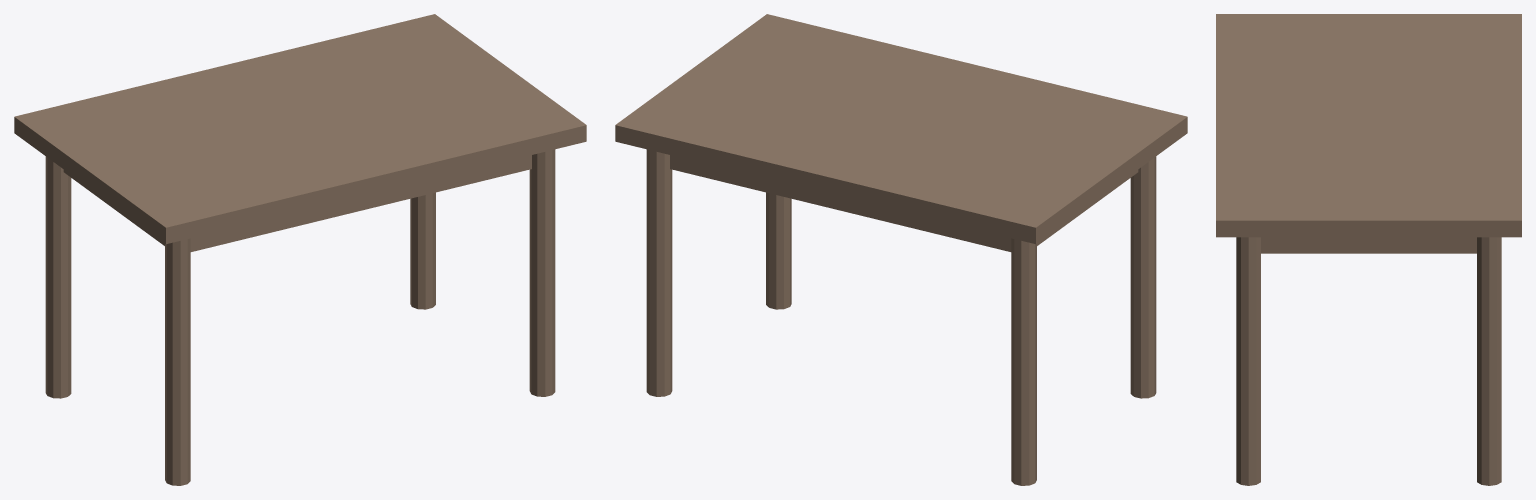
The model's file is prop_huanghuali_tea_table_v2.glb.
The picture shows the model from 3 angles, left to right: view 1: azimuth 30°, elevation 25°; view 2: azimuth 150°, elevation 25°; view 3: azimuth 270°, elevation 25°; orthographic projection.
Visible parts, largest first — view 1: prop_huanghuali_tea_table_v2/tea_table_top_00000, prop_huanghuali_tea_table_v2/tea_table_leg_00003, prop_huanghuali_tea_table_v2/tea_table_leg_00001, prop_huanghuali_tea_table_v2/tea_table_leg_00002, prop_huanghuali_tea_table_v2/tea_table_apron_l_00005, prop_huanghuali_tea_table_v2/tea_table_leg_00004; view 2: prop_huanghuali_tea_table_v2/tea_table_top_00000, prop_huanghuali_tea_table_v2/tea_table_leg_00004, prop_huanghuali_tea_table_v2/tea_table_leg_00002, prop_huanghuali_tea_table_v2/tea_table_leg_00001, prop_huanghuali_tea_table_v2/tea_table_apron_l_00006, prop_huanghuali_tea_table_v2/tea_table_leg_00003; view 3: prop_huanghuali_tea_table_v2/tea_table_top_00000, prop_huanghuali_tea_table_v2/tea_table_leg_00003, prop_huanghuali_tea_table_v2/tea_table_leg_00004, prop_huanghuali_tea_table_v2/tea_table_apron_s_00008.
Boxes of the visible parts, x1,y1,x2,y2 form: prop_huanghuali_tea_table_v2/tea_table_top_00000: (14, 14, 586, 244); prop_huanghuali_tea_table_v2/tea_table_leg_00003: (529, 149, 555, 396); prop_huanghuali_tea_table_v2/tea_table_leg_00001: (165, 238, 190, 485); prop_huanghuali_tea_table_v2/tea_table_leg_00002: (45, 156, 71, 398); prop_huanghuali_tea_table_v2/tea_table_apron_l_00005: (190, 155, 531, 251); prop_huanghuali_tea_table_v2/tea_table_leg_00004: (410, 192, 435, 309); prop_huanghuali_tea_table_v2/tea_table_top_00000: (615, 14, 1187, 244); prop_huanghuali_tea_table_v2/tea_table_leg_00004: (646, 149, 672, 396); prop_huanghuali_tea_table_v2/tea_table_leg_00002: (1011, 238, 1036, 485); prop_huanghuali_tea_table_v2/tea_table_leg_00001: (1130, 156, 1156, 398); prop_huanghuali_tea_table_v2/tea_table_apron_l_00006: (670, 155, 1011, 251); prop_huanghuali_tea_table_v2/tea_table_leg_00003: (766, 192, 791, 309); prop_huanghuali_tea_table_v2/tea_table_top_00000: (1216, 14, 1521, 237); prop_huanghuali_tea_table_v2/tea_table_leg_00003: (1236, 237, 1260, 485); prop_huanghuali_tea_table_v2/tea_table_leg_00004: (1477, 237, 1501, 485); prop_huanghuali_tea_table_v2/tea_table_apron_s_00008: (1261, 237, 1476, 253).
Bounding box in the file's own units: 1.2 × 0.74 × 0.75.
